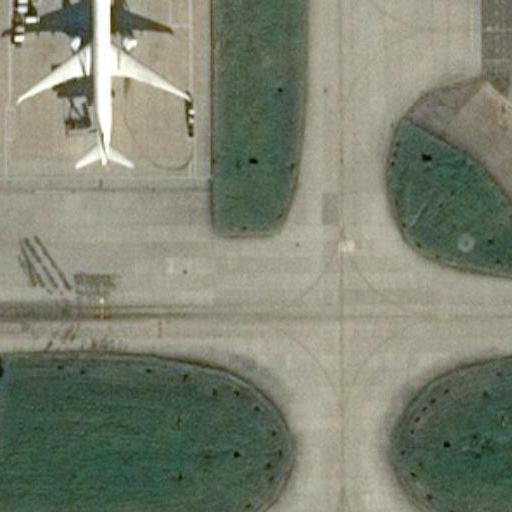Aircraft: (13, 0, 189, 171), (17, 0, 188, 171)
